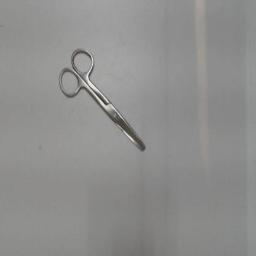Dressing Scissors: (52, 38, 152, 160)
